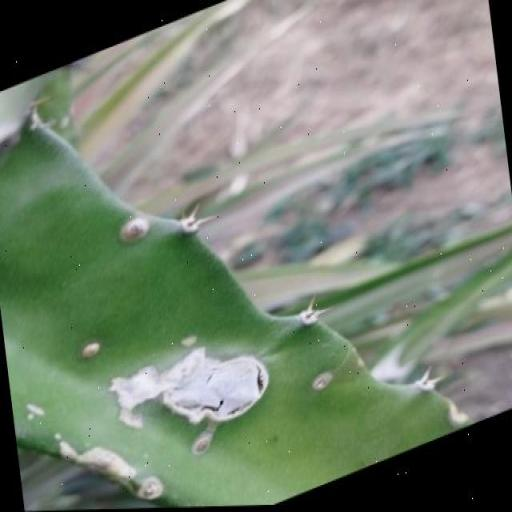stemcanker: (68, 266, 100, 298), (285, 385, 310, 415), (166, 402, 192, 430), (165, 301, 191, 320)
